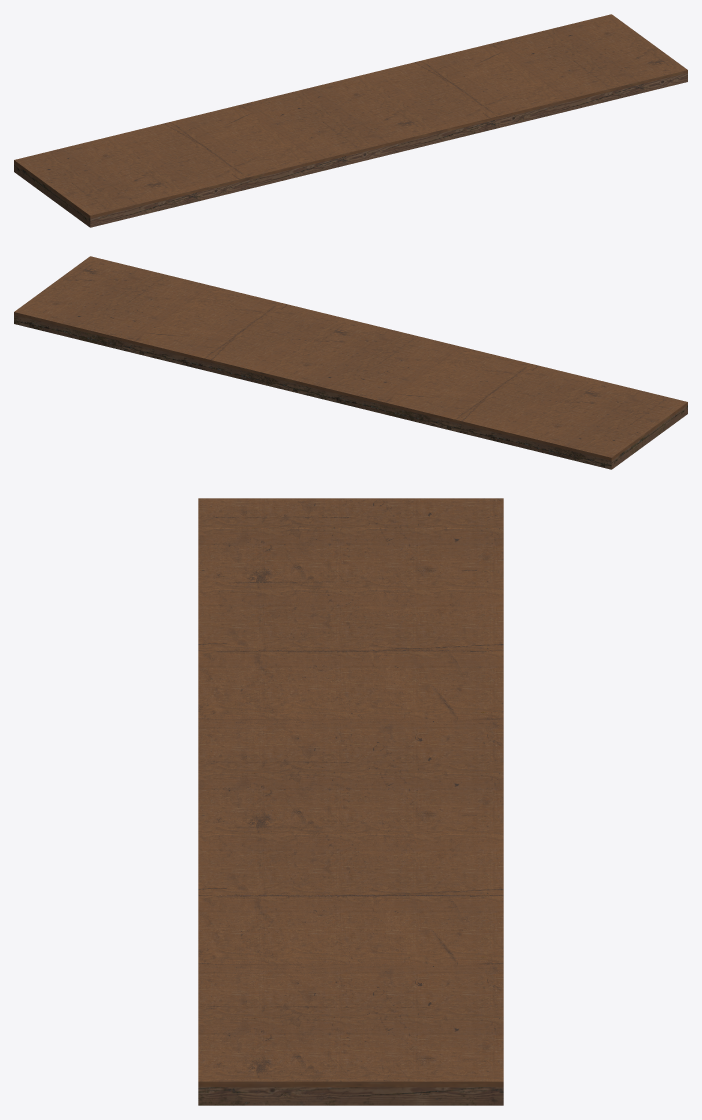
File: Prop_Balcony_Ground.fbx
3 renders of one model, top to bottom at view 1: azimuth 30°, elevation 25°; view 2: azimuth 150°, elevation 25°; view 3: azimuth 270°, elevation 25°, orthographic. The views are drawn at different scales.
Parts seen in each view (by area): view 1: Prop_Balcony_Ground; view 2: Prop_Balcony_Ground; view 3: Prop_Balcony_Ground.
Part boxes in pixels (left/top/right/bottom): Prop_Balcony_Ground: left=14, top=14, right=687, bottom=227; Prop_Balcony_Ground: left=14, top=256, right=687, bottom=469; Prop_Balcony_Ground: left=198, top=498, right=503, bottom=1105.
Bounding box in the file's own units: 455 × 8.69 × 100.
